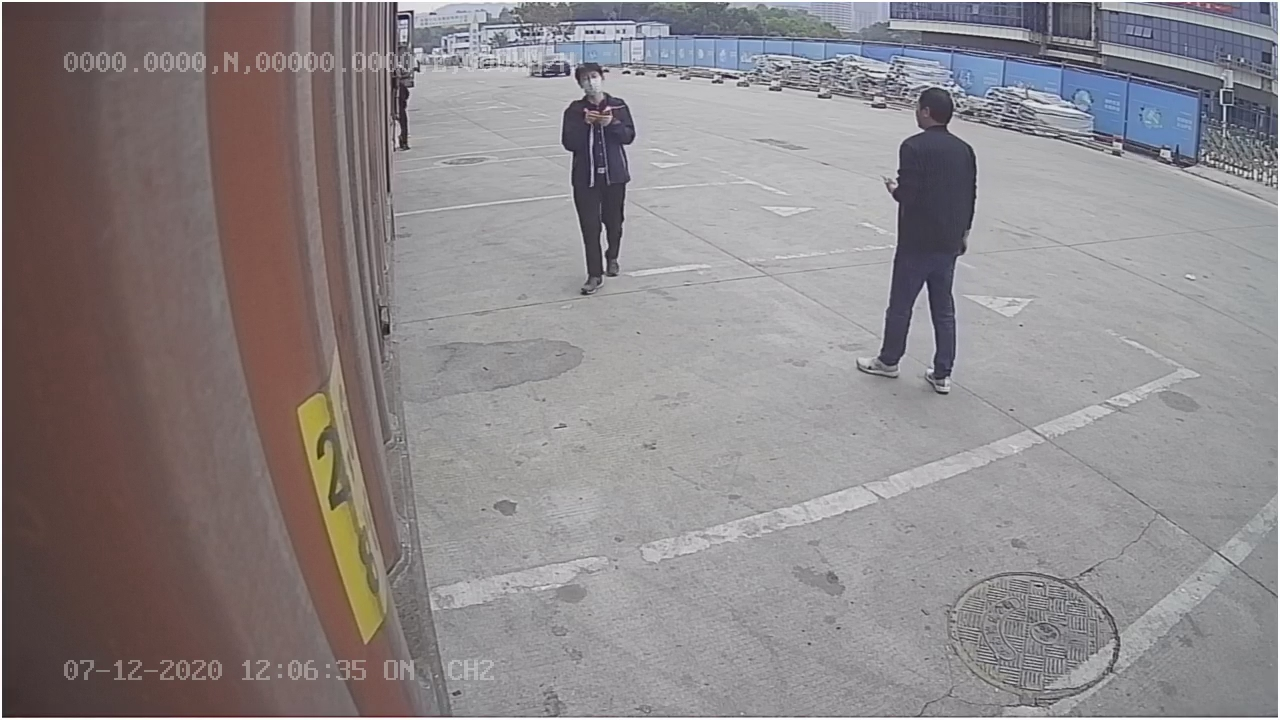person: (855, 80, 978, 395), (562, 60, 635, 298)
